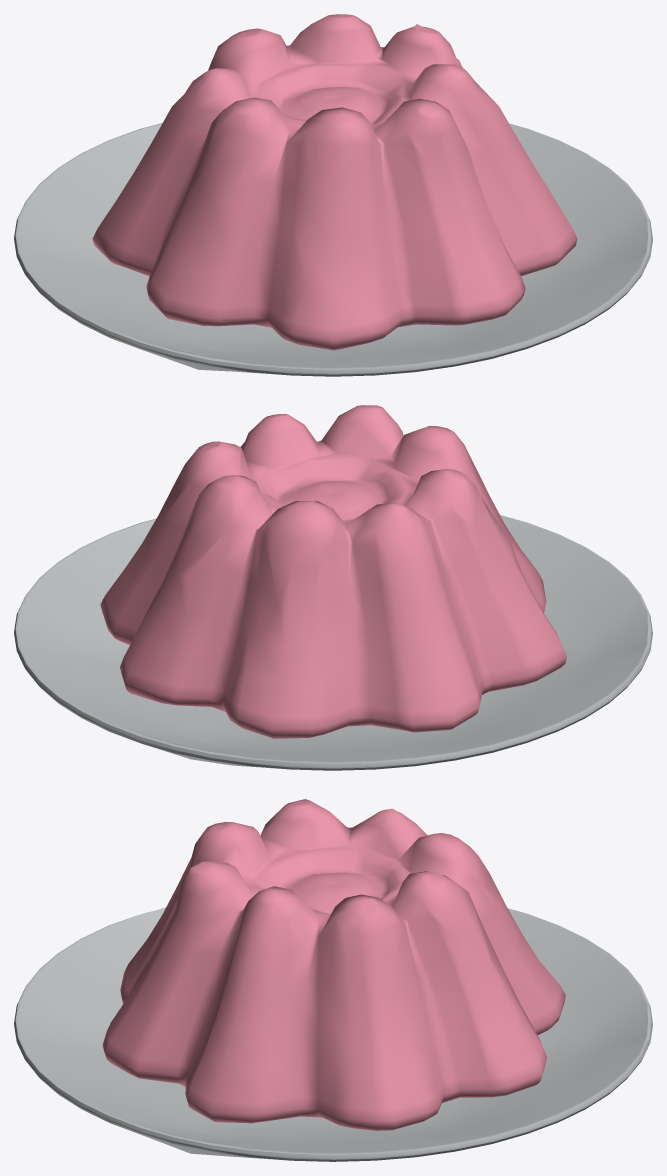
Rendered from Jelly_On_Plate.fbx.
3 views of the same model, one above another, from view 1: azimuth 30°, elevation 25°; view 2: azimuth 150°, elevation 25°; view 3: azimuth 270°, elevation 25° (orthographic).
Visible parts, largest first — view 1: jelly, plate; view 2: jelly, plate; view 3: jelly, plate.
Part boxes in pixels (x1,y1,x2,y2): jelly: (92,14,577,350); plate: (14,123,652,376); jelly: (100,405,566,738); plate: (14,515,652,770); jelly: (102,799,565,1130); plate: (14,907,652,1161).
Bounding box in the file's own units: 14.37 × 5.18 × 14.36.
